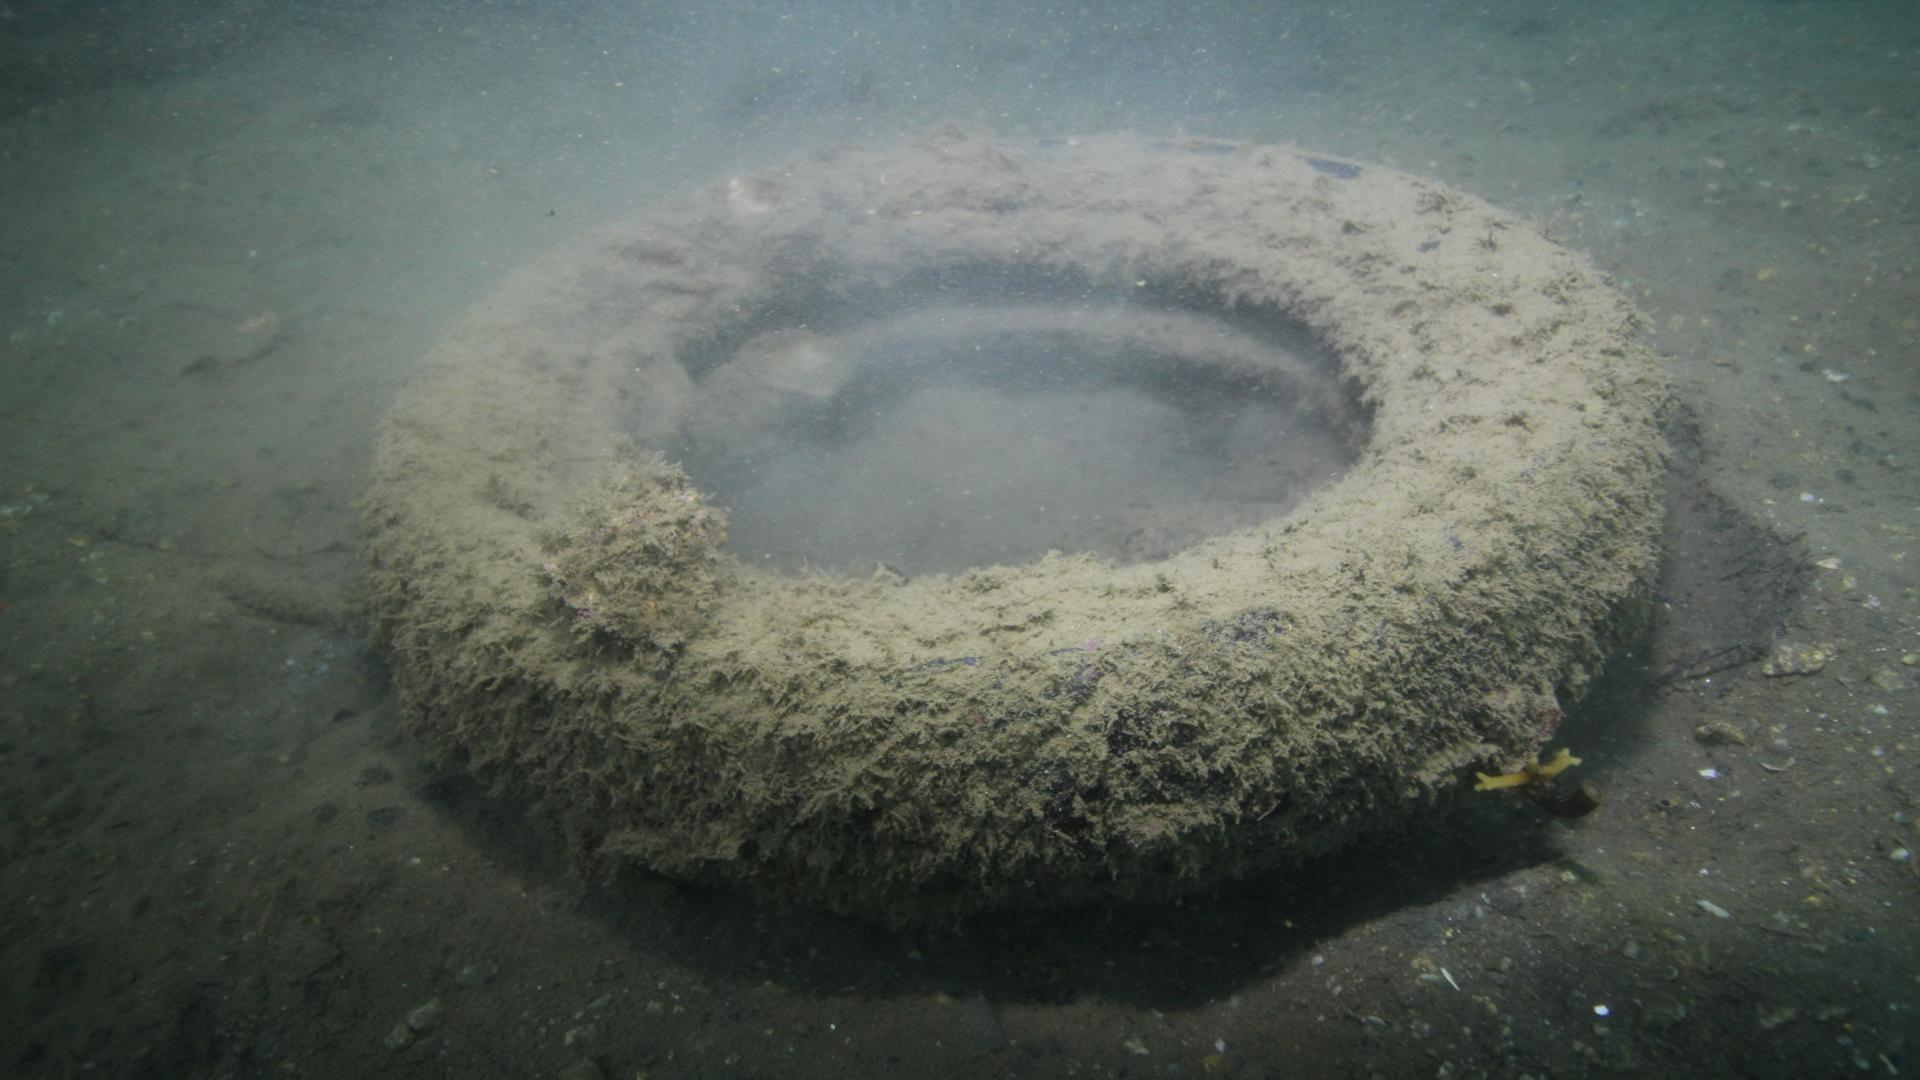tire: (371, 127, 1665, 938)
